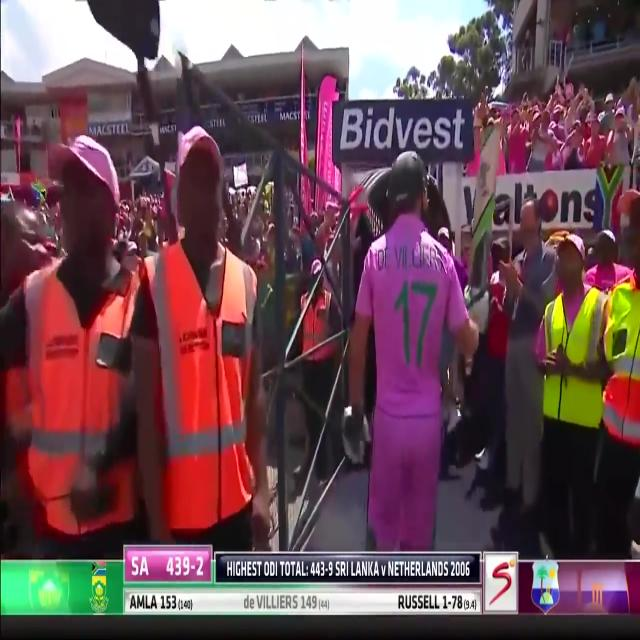Ball: (334, 148, 480, 552)
